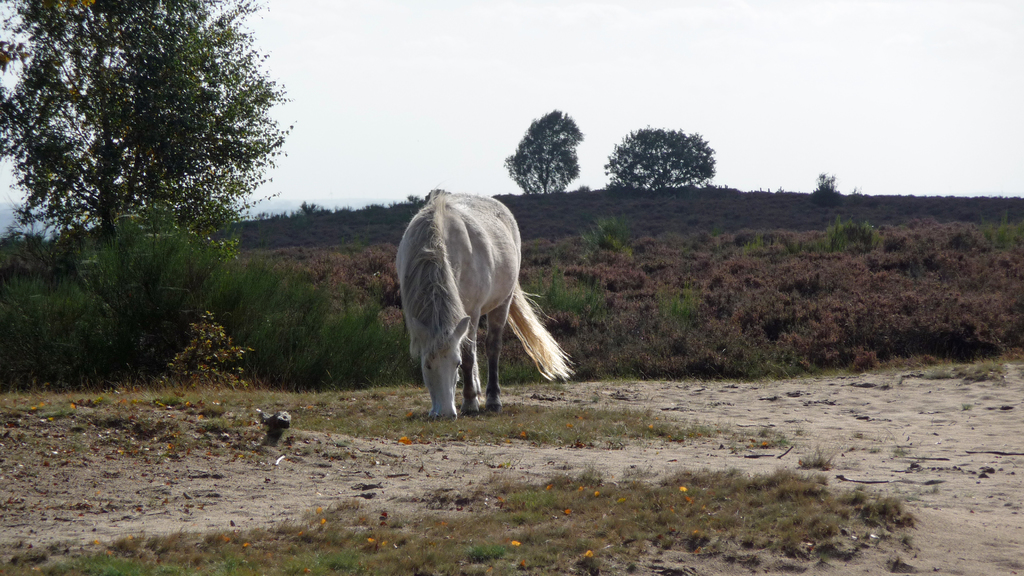horse: (391, 181, 577, 415)
